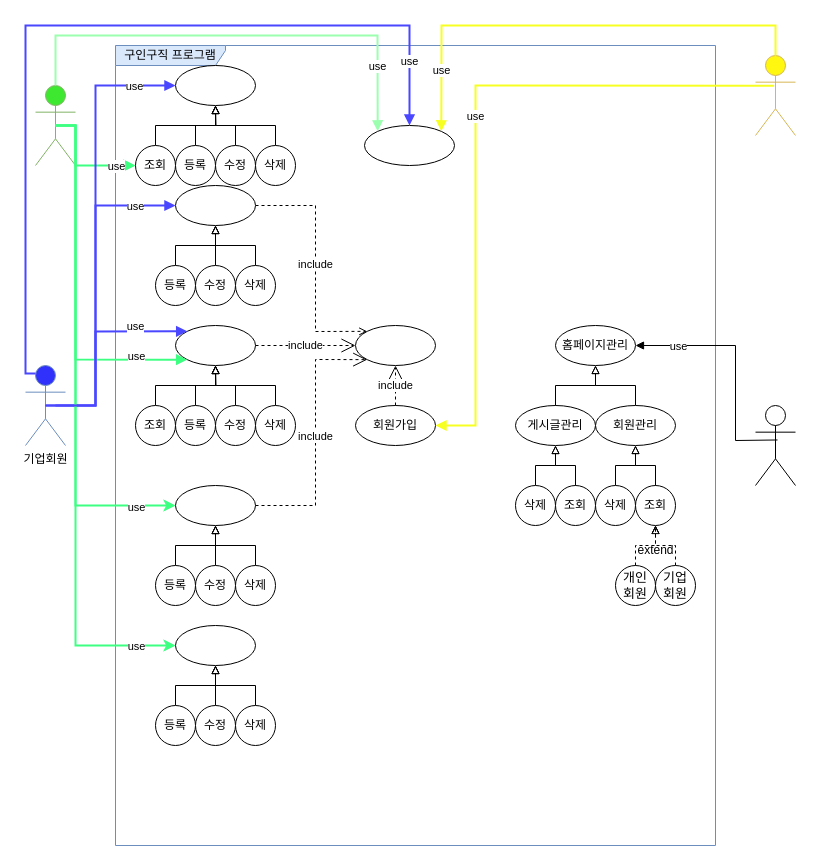
This 813x863 diagram has some shape labels left out. The shapes that lost their labels are listed below. From the top down, each one's centre as x and y in pixels, then its label:
[215,85]: 채용여부
[775,95]: 비회원
[55,125]: 개인회원
[409,145]: 채용공고&이력서&커뮤니티 조회
[215,205]: 채용공고
[215,345]: 마이페이지
[395,345]: 로그인
[775,445]: 관리자
[215,505]: 이력서
[215,645]: 커뮤니티
